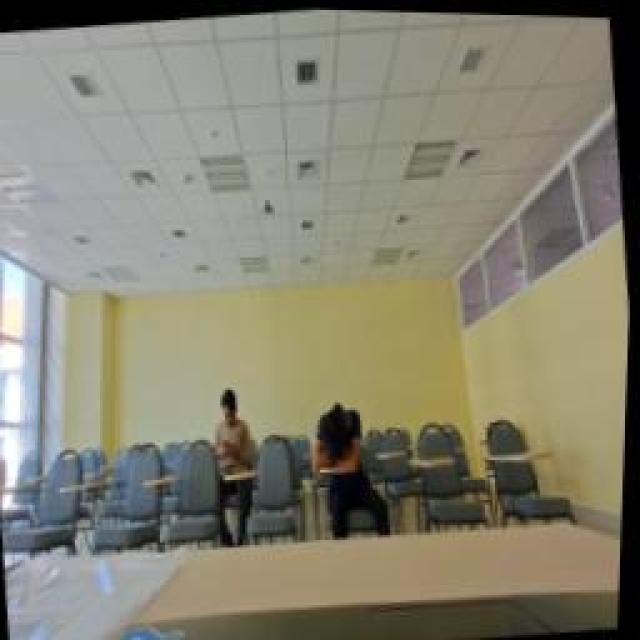phone: (210, 378, 260, 480)
sleep: (305, 395, 377, 477)
